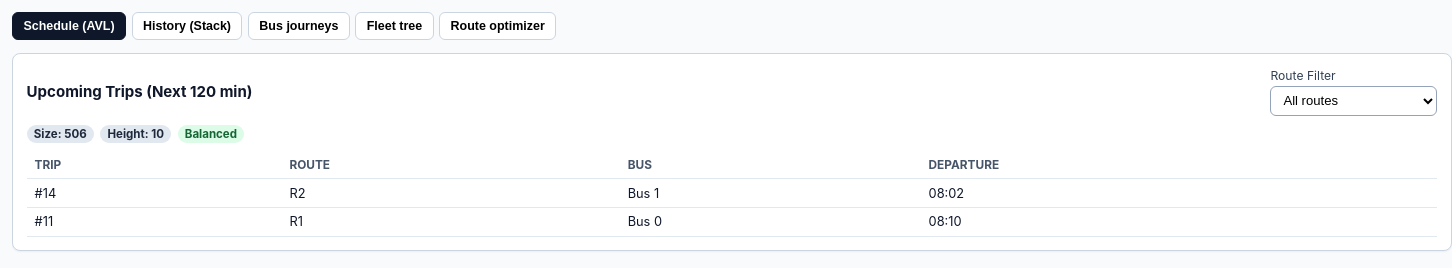
Dashboard, Demand, DsView, and CompareView › DsView renders AVL schedule order & badge, top stack entry, journeys, and collapsible tree
Expected: the element with test id "avl-badges" is shown, x1=27 y1=125 x2=244 y2=143
Expected: the element with test id "avl-badges" shows "Balanced", x1=185 y1=127 x2=237 y2=141
Click the tab "History (Stack)" at [187, 26], box x1=132 y1=12 x2=242 y2=40
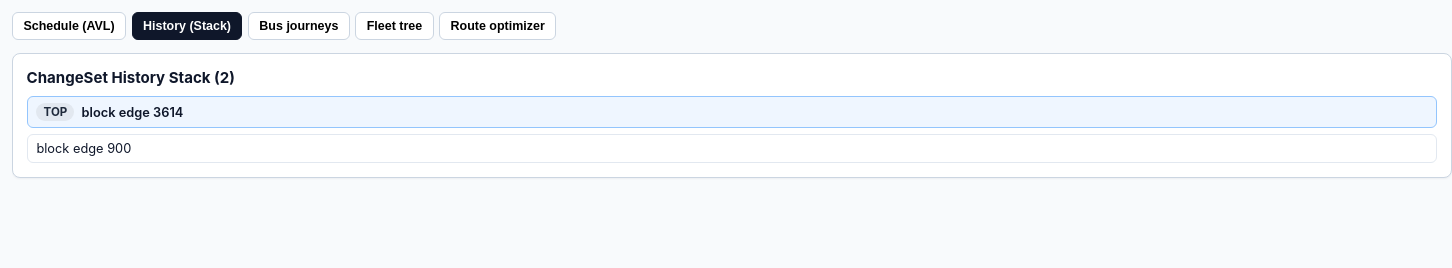
Expected: the element with test id "ds-history" shows "block edge 3614", x1=82 y1=105 x2=183 y2=120
Expected: the element with test id "ds-history" shows "TOP", x1=44 y1=105 x2=67 y2=119
Click the tab "Bus journeys" at [299, 26], box x1=248 y1=12 x2=350 y2=40
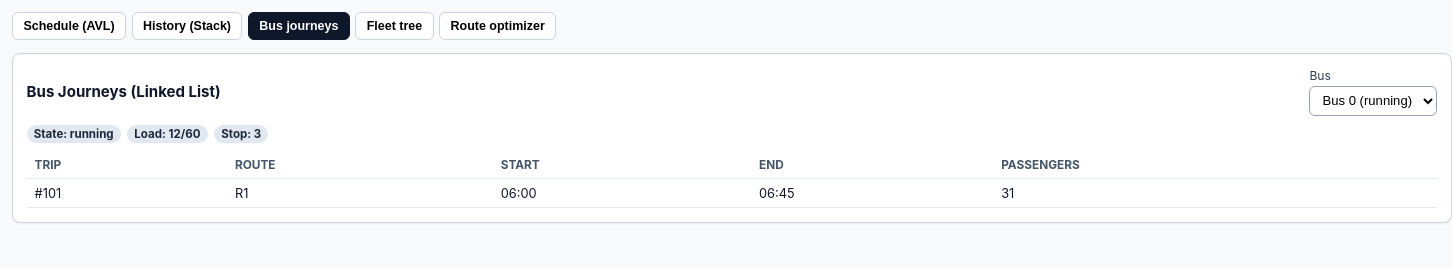
Expected: the element with test id "ds-journeys" shows "#101"
Expected: the element with test id "ds-journeys" shows "06:00", x1=501 y1=186 x2=537 y2=201
Expected: the element with test id "ds-journeys" shows "31", x1=1001 y1=186 x2=1014 y2=201
Click the tab "Fleet tree" at [394, 26], box x1=355 y1=12 x2=434 y2=40
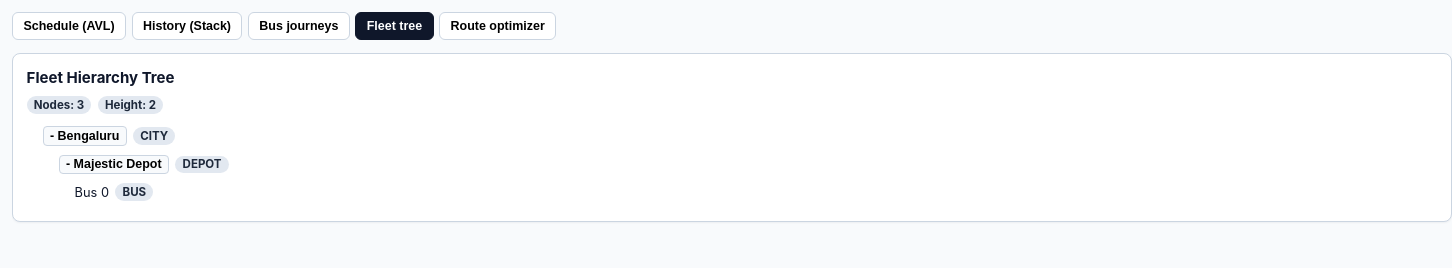
Expected: the text "Bus 0" is shown, x1=75 y1=185 x2=109 y2=200
Click the button "- Majestic Depot" at [114, 164], box x1=59 y1=154 x2=169 y2=174
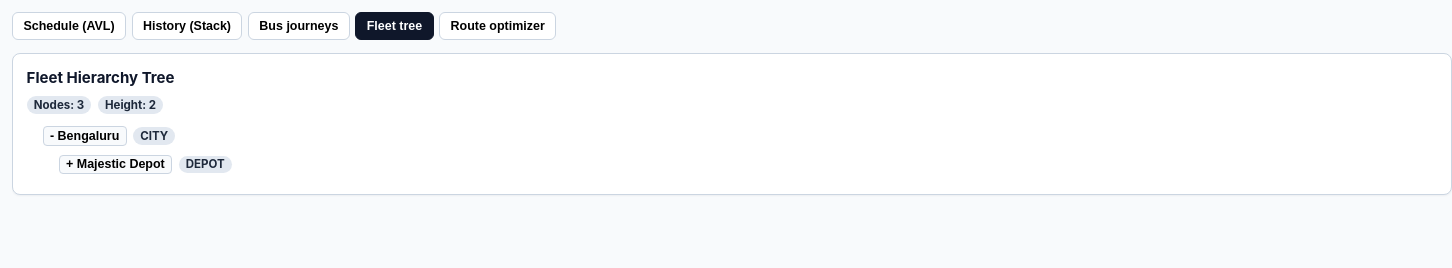
Expected: the text "Bus 0" is gone
